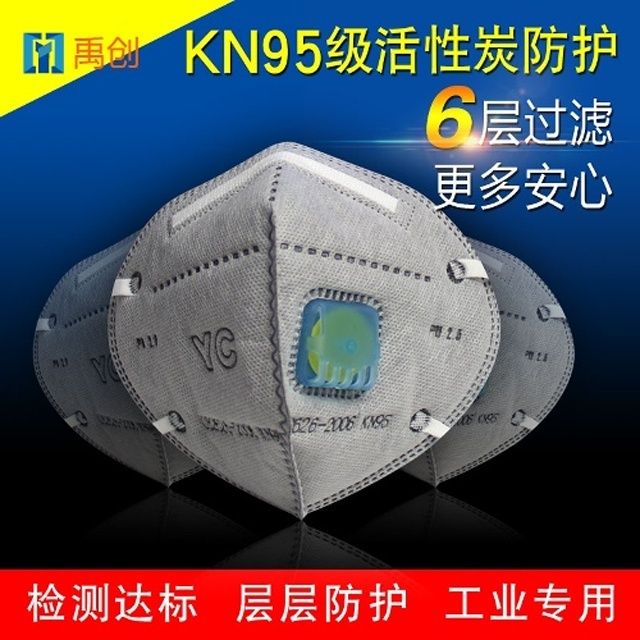mask: (105, 138, 503, 521)
